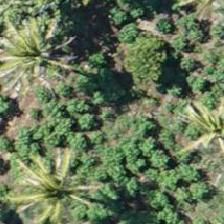coconut_tree: (0, 2, 77, 92), (13, 147, 103, 223), (171, 87, 223, 177)
